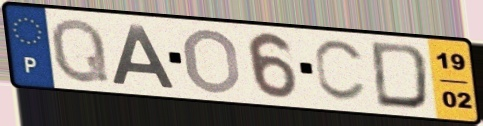6: (244, 30, 300, 103)
A: (109, 22, 178, 90)
C: (311, 38, 369, 105)
D: (368, 40, 432, 112)
O: (181, 26, 243, 96)
Q: (49, 16, 113, 86)
